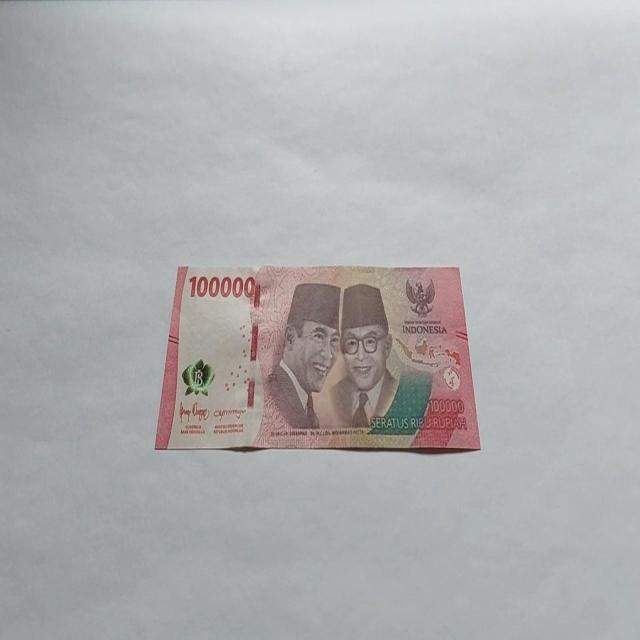Kertas: (154, 262, 482, 454)
